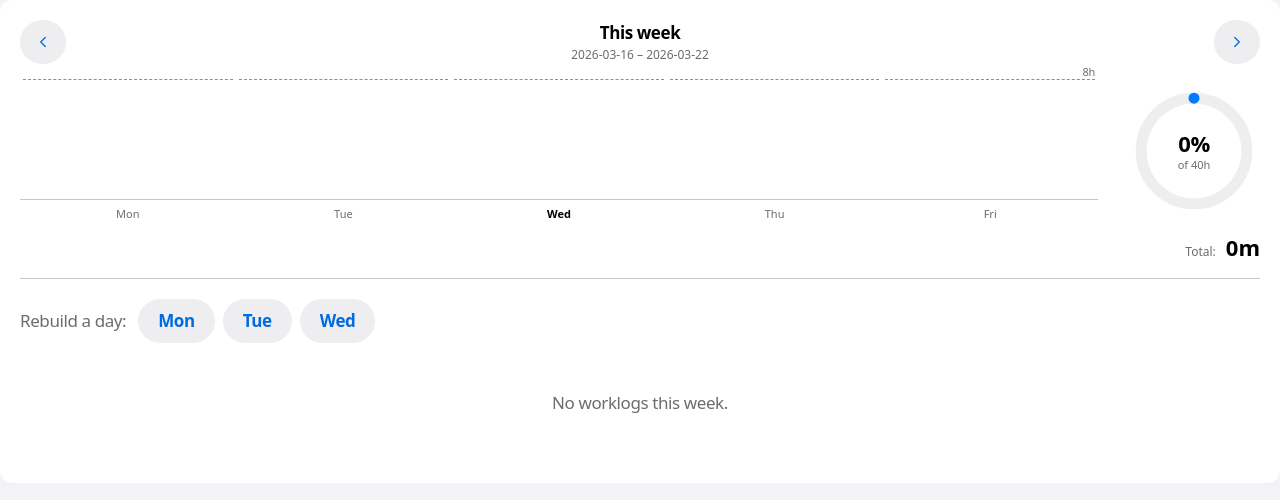
Scenario: moving between weeks › shows the plain range for anything further back
The image size is (1280, 500).
Click the button named "Previous week" at point(43, 42), box [20, 20, 66, 64]
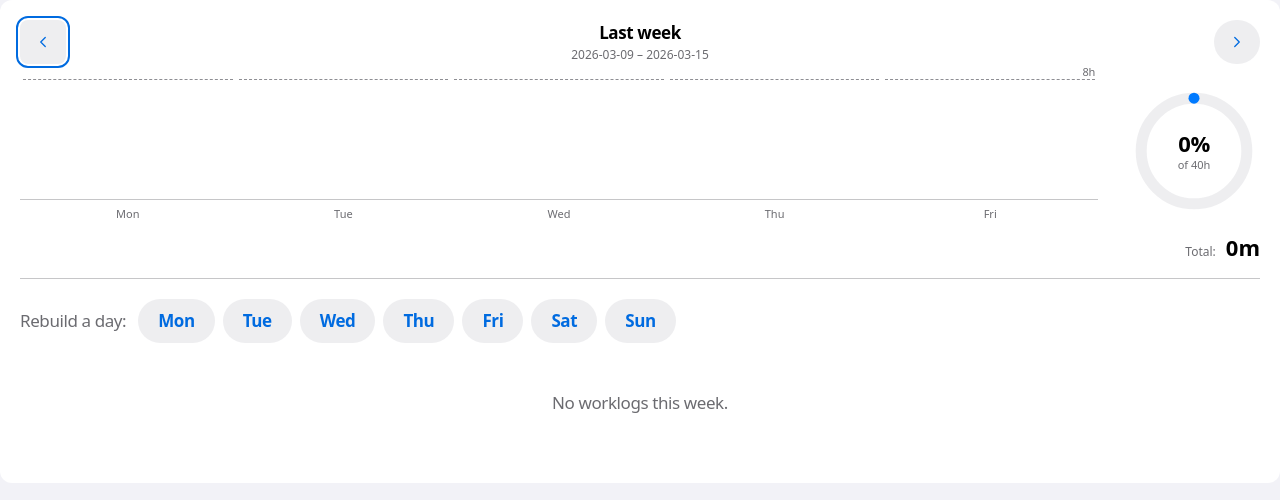
Click the button named "Previous week" at point(43, 42), box [20, 20, 66, 64]
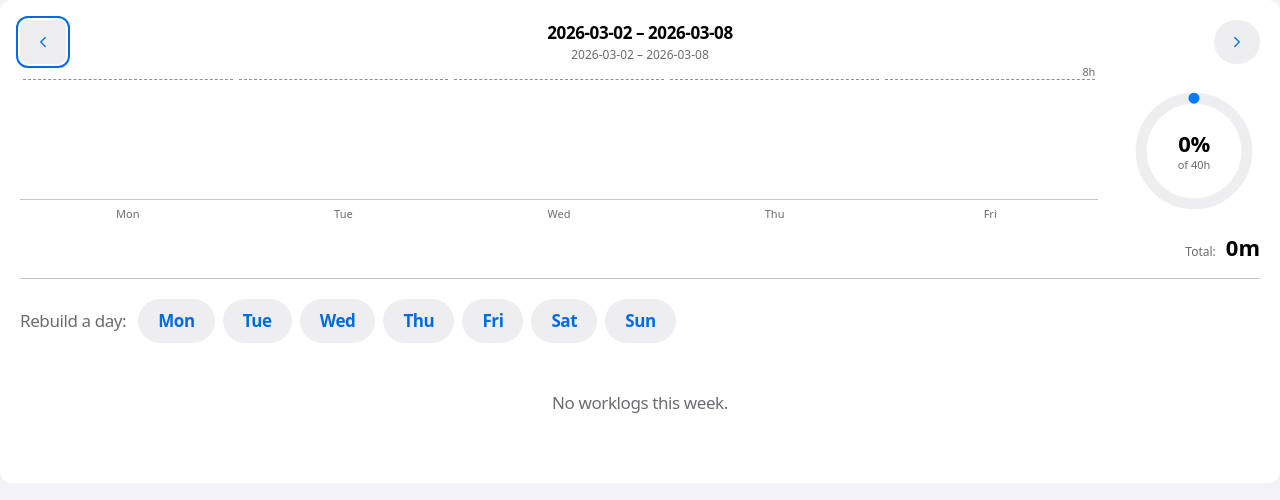
Now the 1st text "2026-03-02 – 2026-03-08" is shown, box [547, 22, 733, 44]
